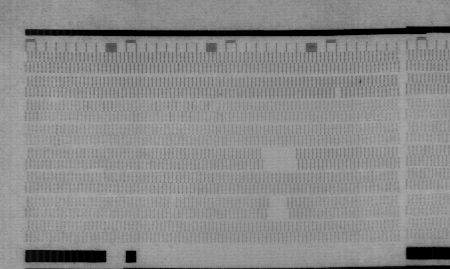Broken hole: (260, 147, 300, 172), (265, 197, 292, 220), (333, 86, 344, 100), (167, 196, 178, 209)
